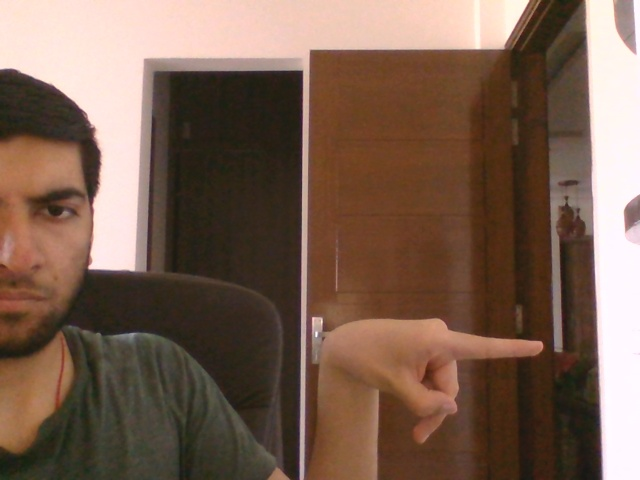LetterP: (317, 315, 546, 446)
